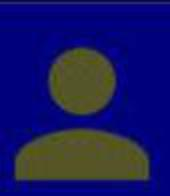ImgButton: (1, 1, 169, 195)
